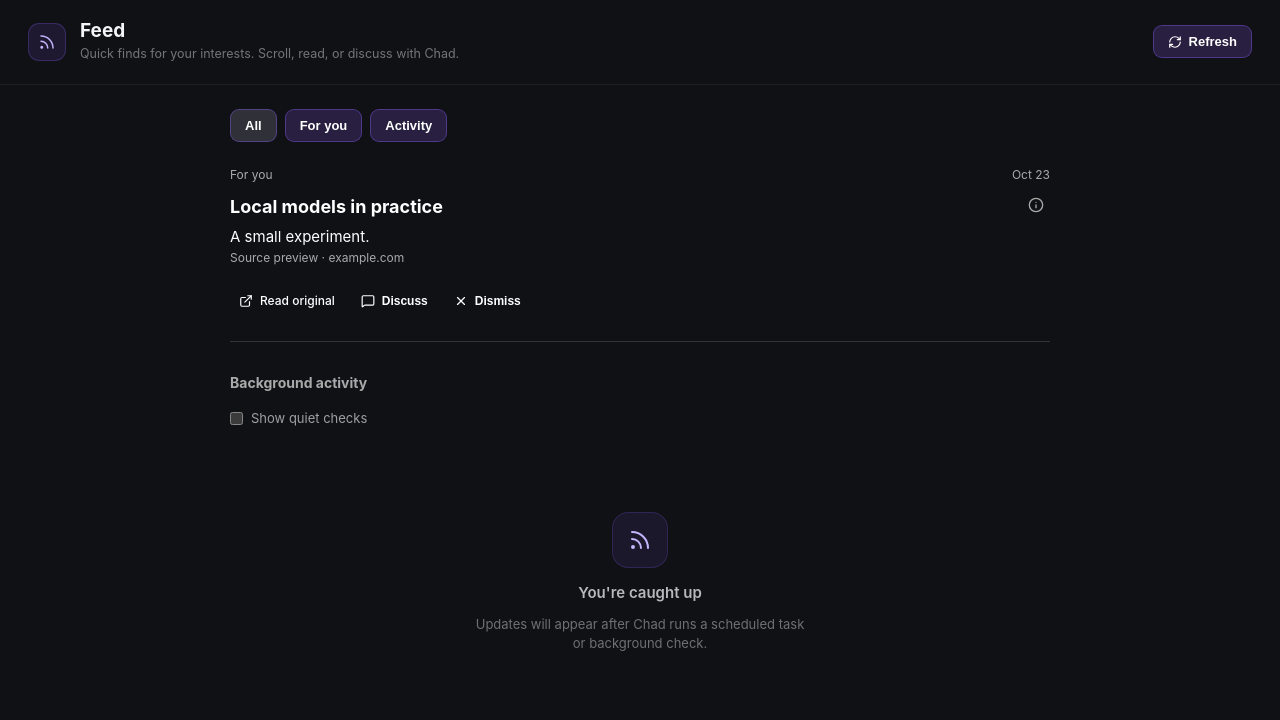
Test case: shows sourced discoveries and keeps failed dismissals visible
Expected: the heading "Local models in practice" is shown, [230,196,443,216]
Click the button "Dismiss".
click(487, 301)  # box [445,285,530,317]
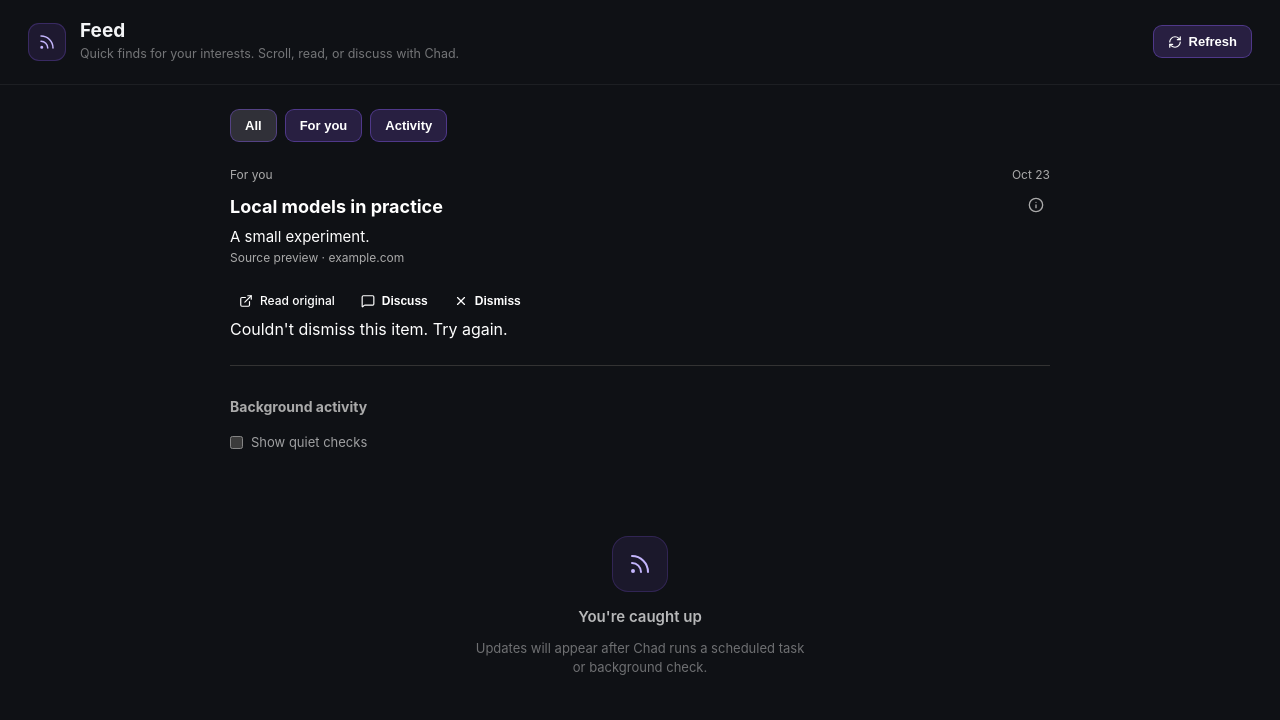
Expected: the heading "Local models in practice" is shown, [230,196,443,216]
Now the message "Couldn't dismiss this item. Try again." is shown, box [230,319,508,339]
Click the button "Dismiss".
click(487, 301)  # box [445,285,530,317]
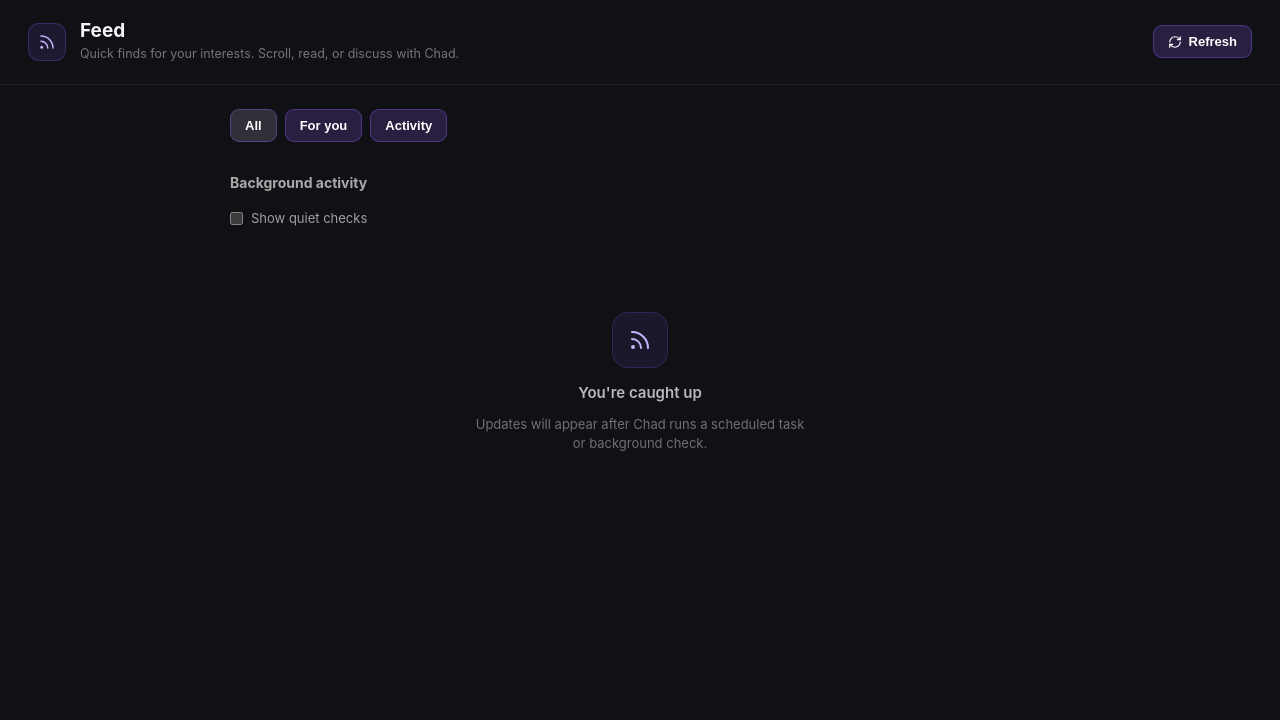
Now the heading "Local models in practice" is gone
